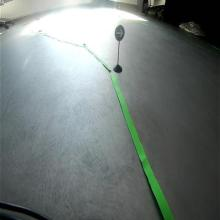right: (114, 24, 125, 40)
